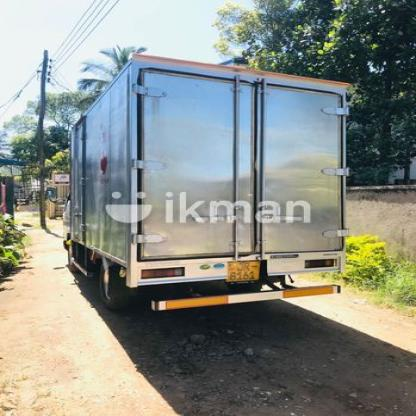Lorry back: (48, 48, 369, 321)
number plate: (228, 260, 254, 283)
